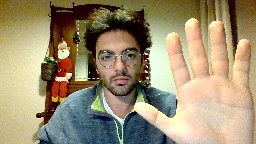Mano_aperta: (131, 13, 256, 144)
